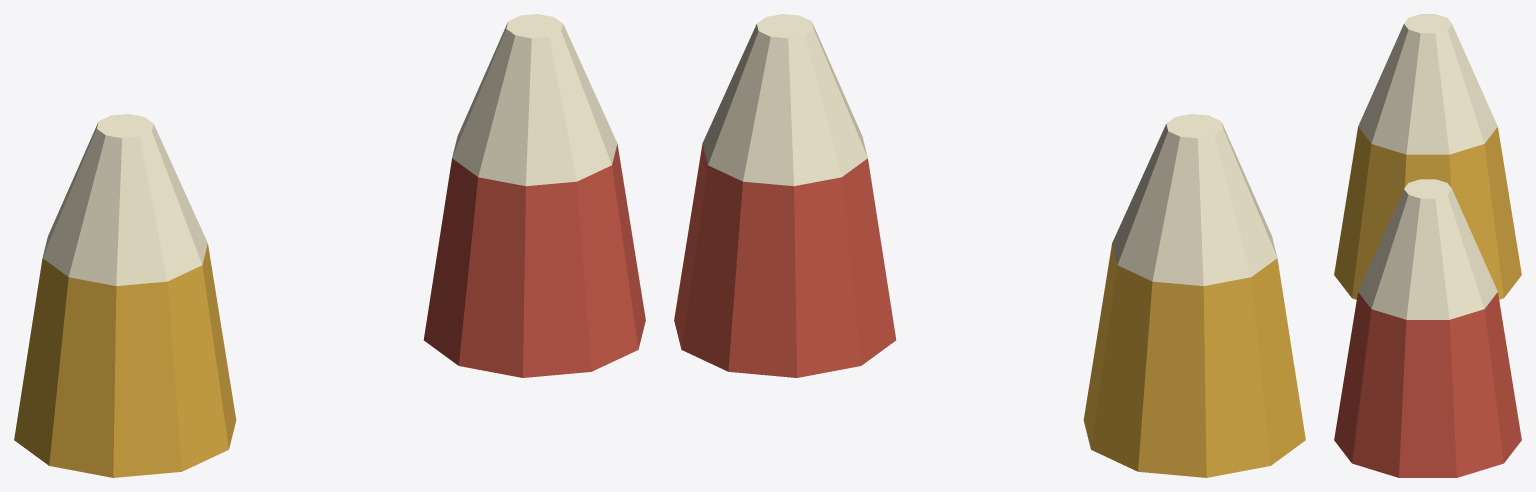
The model's file is buoy-pair.glb.
3 renders of one model, left to right at view 1: azimuth 30°, elevation 25°; view 2: azimuth 150°, elevation 25°; view 3: azimuth 270°, elevation 25°, orthographic. The views are drawn at different scales.
Visible parts, largest first — view 1: buoy-pair; view 2: buoy-pair; view 3: buoy-pair.
Part boxes in pixels (left/top/right/bottom): buoy-pair: left=14, top=14, right=645, bottom=477; buoy-pair: left=674, top=14, right=1305, bottom=477; buoy-pair: left=1334, top=14, right=1521, bottom=477.
Bounding box in the file's own units: 2.61 × 1.27 × 0.86.
